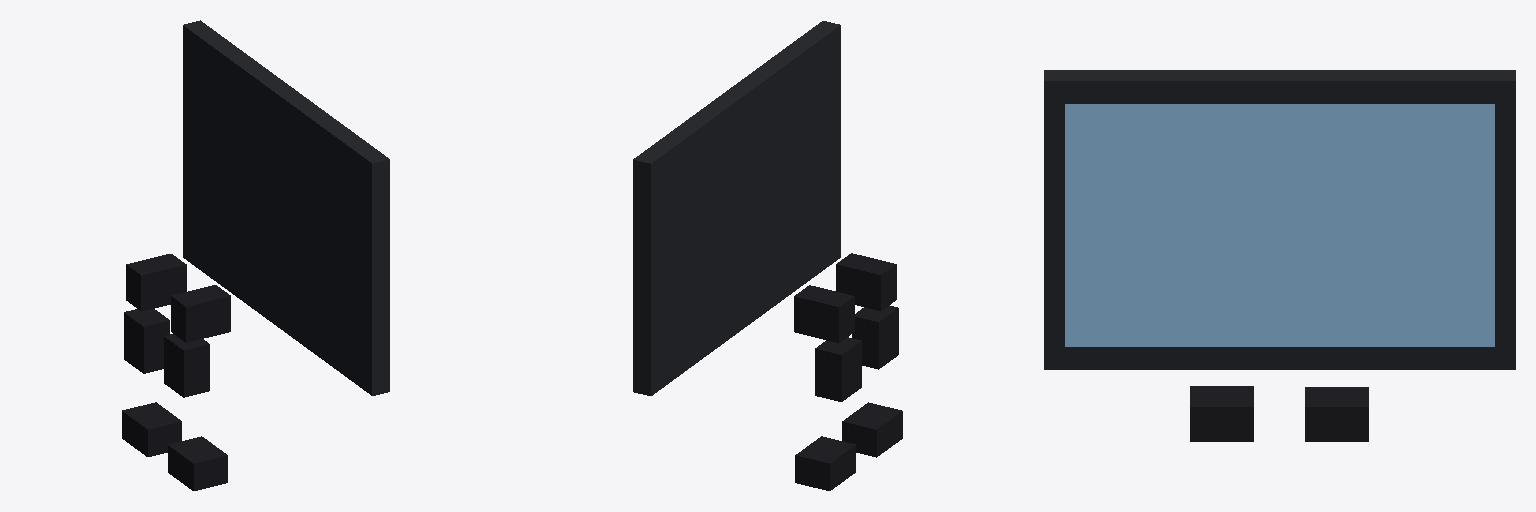
URDF robot description (haetburi):
<?xml version="1.0"?>
<!-- Haetburi biped (v19_xl330) - generated by tools/build_model.py, do not edit by hand -->
<robot name="haetburi">
  <mujoco>
    <compiler meshdir="." balanceinertia="true" discardvisual="false" strippath="false" fusestatic="false"/>
  </mujoco>
  <material name="display"><color rgba="0.18 0.19 0.21 1"/></material>
  <material name="screen"><color rgba="0.62 0.80 0.95 1"/></material>
  <material name="shell"><color rgba="0.106 0.216 0.541 1"/></material>
  <material name="motor"><color rgba="0.15 0.15 0.17 1"/></material>
  <material name="foot"><color rgba="0.25 0.25 0.28 1"/></material>
  <link name="world"/>
  <joint name="floating_base" type="floating">
    <parent link="world"/><child link="pelvis"/>
    <origin xyz="0 0 0" rpy="0 0 0"/>
  </joint>
  <link name="pelvis">
    <inertial>
      <origin xyz="-0.00189578 -0.000138654 0.0462165" rpy="0 0 0"/>
      <mass value="0.417834"/>
      <inertia ixx="0.000583376" ixy="3.10739e-06" ixz="0.000149816" iyy="0.000619771" iyz="5.75977e-06" izz="0.000691068"/>
    </inertial>
    <visual><origin xyz="0 0 0" rpy="0 0 0"/><geometry><mesh filename="meshes/pelvis.stl"/></geometry><material name="shell"/></visual>
    <visual><origin xyz="0.014303 0.0280162 0.062" rpy="0 0 0"/><geometry><box size="0.034 0.02 0.026"/></geometry><material name="motor"/></visual>
    <visual><origin xyz="0.015297 -0.0283619 0.062" rpy="0 0 0"/><geometry><box size="0.034 0.02 0.026"/></geometry><material name="motor"/></visual>
    <collision><origin xyz="0.00854514 -0.00016741 0.03749" rpy="0 0 0"/><geometry><box size="0.102452 0.13605 0.04458"/></geometry></collision>
  </link>
  <link name="torso">
    <inertial>
      <origin xyz="0.0304346 9.21525e-05 0.127815" rpy="0 0 0"/>
      <mass value="2.49671"/>
      <inertia ixx="0.0486542" ixy="-0.000109285" ixz="0.00845894" iyy="0.047975" iyz="-0.000116759" izz="0.0276872"/>
    </inertial>
    <visual><origin xyz="0 0 0" rpy="0 0 0"/><geometry><mesh filename="meshes/torso.stl"/></geometry><material name="shell"/></visual>
    <visual><origin xyz="0.096141 0 0.0478113" rpy="0 0 0"/><geometry><box size="0.013524 0.247548 0.167345"/></geometry><material name="display"/></visual>
    <visual><origin xyz="0.102903 0 0.0478113" rpy="0 0 0"/><geometry><box size="0.0004 0.225792 0.14112"/></geometry><material name="screen"/></visual>
    <collision><origin xyz="-0.0446378 -2.07797e-06 0.032932" rpy="0 0 0"/><geometry><box size="0.209525 0.142073 0.139911"/></geometry></collision>
    <collision><origin xyz="0.0545076 0.110048 0.0663604" rpy="0 0 0"/><geometry><sphere radius="0.0796041"/></geometry></collision>
    <collision><origin xyz="0.0548844 -0.110217 0.0663604" rpy="0 0 0"/><geometry><sphere radius="0.0795276"/></geometry></collision>
    <collision><origin xyz="-0.00684162 0.000349887 0.134345" rpy="0 0 0"/><geometry><sphere radius="0.136537"/></geometry></collision>
    <collision><origin xyz="-0.0119218 -0.00016086 0.197217" rpy="0 0 0"/><geometry><sphere radius="0.157523"/></geometry></collision>
    <collision><origin xyz="-0.0181535 -0.000265494 0.260099" rpy="0 0 0"/><geometry><sphere radius="0.155698"/></geometry></collision>
    <collision><origin xyz="-0.0142413 0.00112154 0.322979" rpy="0 0 0"/><geometry><sphere radius="0.135386"/></geometry></collision>
    <collision><origin xyz="-0.00842703 0.00887726 0.385897" rpy="0 0 0"/><geometry><sphere radius="0.0964986"/></geometry></collision>
    <collision><origin xyz="-0.0154437 -0.00293413 0.44876" rpy="0 0 0"/><geometry><sphere radius="0.056001"/></geometry></collision>
    <collision><origin xyz="0.096141 0 0.0478113" rpy="0 0 0"/><geometry><box size="0.013524 0.247548 0.167345"/></geometry></collision>
  </link>
  <link name="leg_l">
    <inertial>
      <origin xyz="-0.00401168 0.00262601 -0.0100784" rpy="0 0 0"/>
      <mass value="0.068048"/>
      <inertia ixx="5.545e-05" ixy="1.24017e-07" ixz="2.73356e-06" iyy="5.66805e-05" iyz="2.5413e-07" izz="2.72513e-05"/>
    </inertial>
    <visual><origin xyz="0 0 0" rpy="0 0 0"/><geometry><mesh filename="meshes/leg_l.stl"/></geometry><material name="shell"/></visual>
    <collision><origin xyz="-0.00552526 0.00309104 0.00174308" rpy="0 0 0"/><geometry><box size="0.0528905 0.0485022 0.0618771"/></geometry></collision>
  </link>
  <link name="hip_l">
    <inertial>
      <origin xyz="0 -0.0025438 0.0220535" rpy="0 0 0"/>
      <mass value="0.0258671"/>
      <inertia ixx="2.98455e-06" ixy="0" ixz="0" iyy="2.55823e-06" iyz="5.25547e-08" izz="1.62632e-06"/>
    </inertial>
    <visual><origin xyz="0 -0.003 0.024" rpy="0 0 0"/><geometry><box size="0.02 0.026 0.034"/></geometry><material name="motor"/></visual>
  </link>
  <link name="foot_l">
    <inertial>
      <origin xyz="0.00159194 0.00760185 -0.0019764" rpy="0 0 0"/>
      <mass value="0.103166"/>
      <inertia ixx="3.7535e-05" ixy="-2.05766e-06" ixz="-5.72074e-07" iyy="5.58219e-05" iyz="-1.6394e-06" izz="6.58108e-05"/>
    </inertial>
    <visual><origin xyz="0 0 0" rpy="0 0 0"/><geometry><mesh filename="meshes/foot_l.stl"/></geometry><material name="shell"/></visual>
    <visual><origin xyz="0 0.0088 5.38845e-19" rpy="0 0 0"/><geometry><box size="0.026 0.034 0.02"/></geometry><material name="motor"/></visual>
    <collision><origin xyz="0 0 0" rpy="0 0 0"/><geometry><mesh filename="meshes/foot_l.stl"/></geometry></collision>
  </link>
  <link name="leg_r">
    <inertial>
      <origin xyz="-0.00440962 -0.00257259 -0.0116486" rpy="0 0 0"/>
      <mass value="0.0699431"/>
      <inertia ixx="6.10943e-05" ixy="-1.94982e-07" ixz="3.34094e-06" iyy="6.24068e-05" iyz="-2.79784e-07" izz="2.86152e-05"/>
    </inertial>
    <visual><origin xyz="0 0 0" rpy="0 0 0"/><geometry><mesh filename="meshes/leg_r.stl"/></geometry><material name="shell"/></visual>
    <collision><origin xyz="-0.00659261 -0.00306936 0.000874972" rpy="0 0 0"/><geometry><box size="0.0526981 0.0486026 0.0657819"/></geometry></collision>
  </link>
  <link name="hip_r">
    <inertial>
      <origin xyz="0 0.0025438 0.0245973" rpy="0 0 0"/>
      <mass value="0.0258671"/>
      <inertia ixx="3.10198e-06" ixy="0" ixz="0" iyy="2.67566e-06" iyz="-6.48723e-08" izz="1.62632e-06"/>
    </inertial>
    <visual><origin xyz="0 0.003 0.027" rpy="0 0 0"/><geometry><box size="0.02 0.026 0.034"/></geometry><material name="motor"/></visual>
  </link>
  <link name="foot_r">
    <inertial>
      <origin xyz="0.00175311 -0.00751124 -0.00203423" rpy="0 0 0"/>
      <mass value="0.102887"/>
      <inertia ixx="3.72566e-05" ixy="2.18095e-06" ixz="-5.11501e-07" iyy="5.55756e-05" iyz="1.62582e-06" izz="6.558e-05"/>
    </inertial>
    <visual><origin xyz="0 0 0" rpy="0 0 0"/><geometry><mesh filename="meshes/foot_r.stl"/></geometry><material name="shell"/></visual>
    <visual><origin xyz="0 -0.0088 5.38845e-19" rpy="0 0 0"/><geometry><box size="0.026 0.034 0.02"/></geometry><material name="motor"/></visual>
    <collision><origin xyz="0 0 0" rpy="0 0 0"/><geometry><mesh filename="meshes/foot_r.stl"/></geometry></collision>
  </link>
  <joint name="waist_fixed" type="fixed">
    <parent link="pelvis"/><child link="torso"/>
    <origin xyz="0 0 0.05978" rpy="0 0 0"/>
  </joint>
  <joint name="hip_yaw_l" type="revolute">
    <parent link="pelvis"/><child link="hip_l"/>
    <origin xyz="0.00550302 0.0280162 0" rpy="0 0 0"/>
    <axis xyz="0 0 1"/>
    <limit lower="-0.366519" upper="0.366519" effort="0.52" velocity="10.79"/>
    <dynamics damping="0.037142857142857144" friction="0.014857142857142859"/>
  </joint>
  <joint name="hip_pitch_l" type="revolute">
    <parent link="hip_l"/><child link="leg_l"/>
    <origin xyz="0 -0.003 0.0152" rpy="0 0 0"/>
    <axis xyz="0 1 0"/>
    <limit lower="-0.523599" upper="0.418879" effort="0.52" velocity="10.79"/>
    <dynamics damping="0.037142857142857144" friction="0.014857142857142859"/>
  </joint>
  <joint name="hip_yaw_r" type="revolute">
    <parent link="pelvis"/><child link="hip_r"/>
    <origin xyz="0.00649698 -0.0283619 0" rpy="0 0 0"/>
    <axis xyz="0 0 1"/>
    <limit lower="-0.366519" upper="0.366519" effort="0.52" velocity="10.79"/>
    <dynamics damping="0.037142857142857144" friction="0.014857142857142859"/>
  </joint>
  <joint name="hip_pitch_r" type="revolute">
    <parent link="hip_r"/><child link="leg_r"/>
    <origin xyz="0 0.003 0.0182" rpy="0 0 0"/>
    <axis xyz="0 1 0"/>
    <limit lower="-0.523599" upper="0.418879" effort="0.52" velocity="10.79"/>
    <dynamics damping="0.037142857142857144" friction="0.014857142857142859"/>
  </joint>
  <joint name="ankle_roll_l" type="revolute">
    <parent link="leg_l"/><child link="foot_l"/>
    <origin xyz="0.00663361 -0.00382274 -0.05951" rpy="0 0 0"/>
    <axis xyz="1 0 0"/>
    <limit lower="-0.261799" upper="0.261799" effort="0.52" velocity="10.79"/>
    <dynamics damping="0.037142857142857144" friction="0.014857142857142859"/>
  </joint>
  <joint name="ankle_roll_r" type="revolute">
    <parent link="leg_r"/><child link="foot_r"/>
    <origin xyz="0.00528074 0.00366681 -0.06251" rpy="0 0 0"/>
    <axis xyz="1 0 0"/>
    <limit lower="-0.261799" upper="0.261799" effort="0.52" velocity="10.79"/>
    <dynamics damping="0.037142857142857144" friction="0.014857142857142859"/>
  </joint>
</robot>

--- Facts derived from the render (not from the file) ---
3 views of the same robot in one strip: view 1: azimuth 30°, elevation 25°; view 2: azimuth 150°, elevation 25°; view 3: azimuth 270°, elevation 25° (orthographic).
Model haetburi with 9 links and 8 joints (6 revolute, 1 fixed, 1 floating), rooted at world, posed every joint at zero.
Visible links, largest first — view 1: torso, pelvis, foot_r, hip_r, hip_l, foot_l; view 2: torso, pelvis, hip_l, foot_l, foot_r, hip_r; view 3: torso, foot_r, foot_l.
Link boxes in pixels (x1=…): torso: x1=183, y1=20, x2=389, y2=395; pelvis: x1=126, y1=254, x2=230, y2=342; foot_r: x1=168, y1=436, x2=227, y2=490; hip_r: x1=164, y1=334, x2=209, y2=397; hip_l: x1=124, y1=309, x2=169, y2=373; foot_l: x1=122, y1=402, x2=181, y2=456; torso: x1=633, y1=21, x2=840, y2=395; pelvis: x1=794, y1=253, x2=896, y2=342; hip_l: x1=815, y1=337, x2=861, y2=401; foot_l: x1=795, y1=436, x2=855, y2=490; foot_r: x1=842, y1=402, x2=902, y2=457; hip_r: x1=852, y1=305, x2=898, y2=369; torso: x1=1044, y1=70, x2=1515, y2=369; foot_r: x1=1190, y1=386, x2=1253, y2=441; foot_l: x1=1305, y1=387, x2=1368, y2=441.
Size in the robot's own frame: 0.1076 by 0.2475 by 0.2456 metres.
Meshes: 6 distinct files referenced, 0 mesh visuals loaded (none loaded); not drawn: 6 (reference not matched to a file when rendering).
